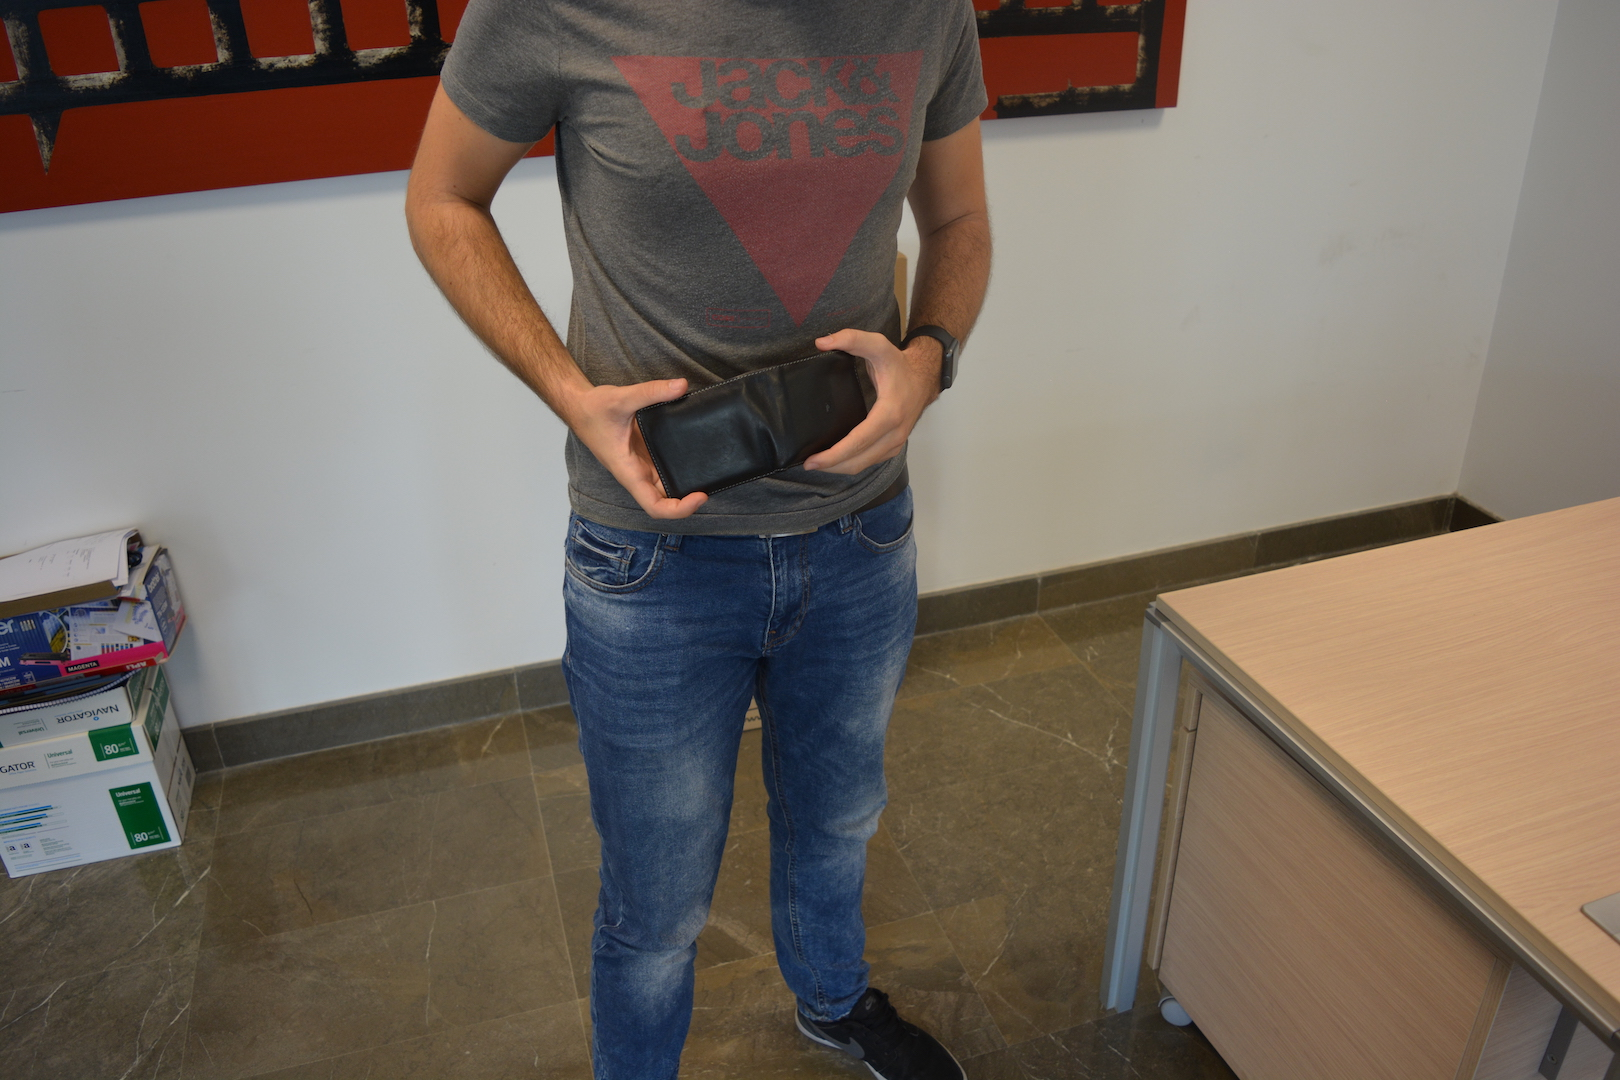monedero: (636, 347, 869, 500)
